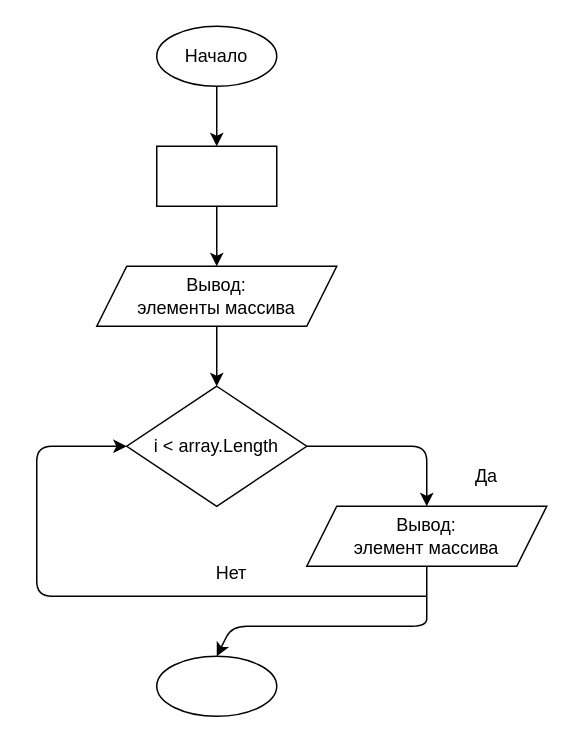
The diagram is 573 pixels wide and 743 high, and some of its shapes have lost their labels. Each missing label, with the centre of its shape:
"Конец" goes at point 216,685.
"Массив" goes at point 216,175.
